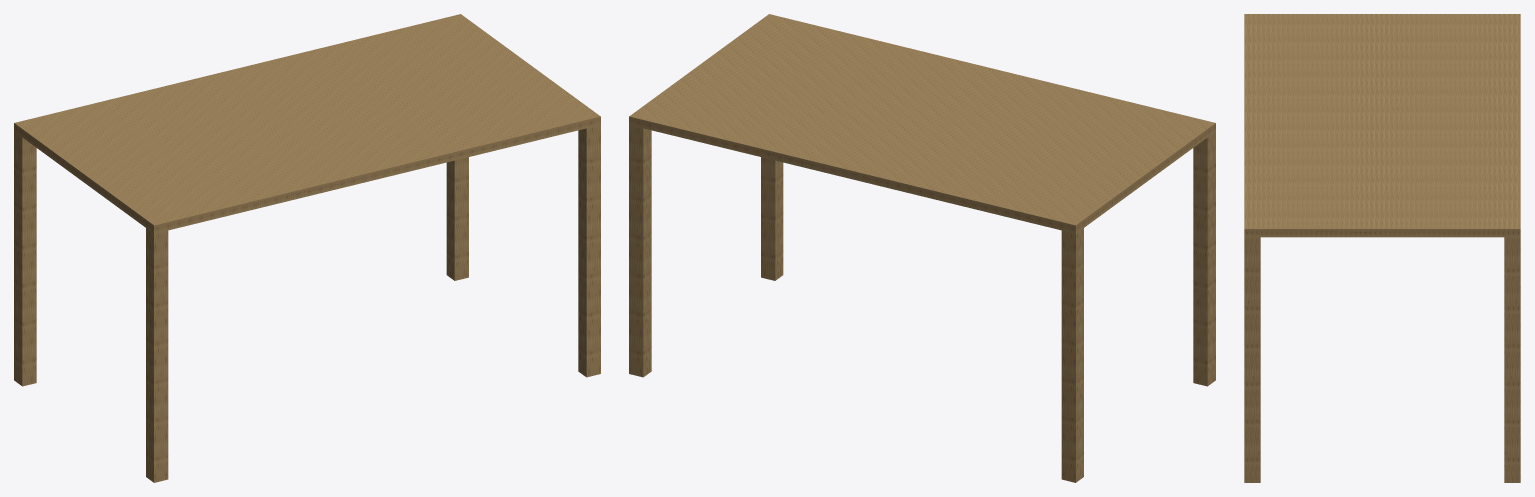
File: Stol_2.glb
The picture shows the model from 3 angles, left to right: view 1: azimuth 30°, elevation 25°; view 2: azimuth 150°, elevation 25°; view 3: azimuth 270°, elevation 25°; orthographic projection.
Parts seen in each view (by area): view 1: iron_table; view 2: iron_table; view 3: iron_table.
Part boxes in pixels (x1,y1,x2,y2): iron_table: (14, 14, 600, 482); iron_table: (629, 14, 1215, 482); iron_table: (1244, 14, 1520, 482).
Size of the model in its own units: 32.65 by 17.99 by 17.73.
1 material, 1 textured.
